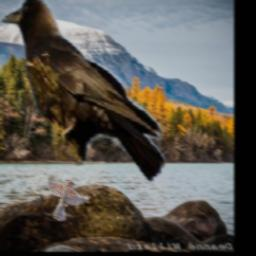Crow: (0, 0, 167, 188)
Sparrow: (48, 175, 90, 221)
